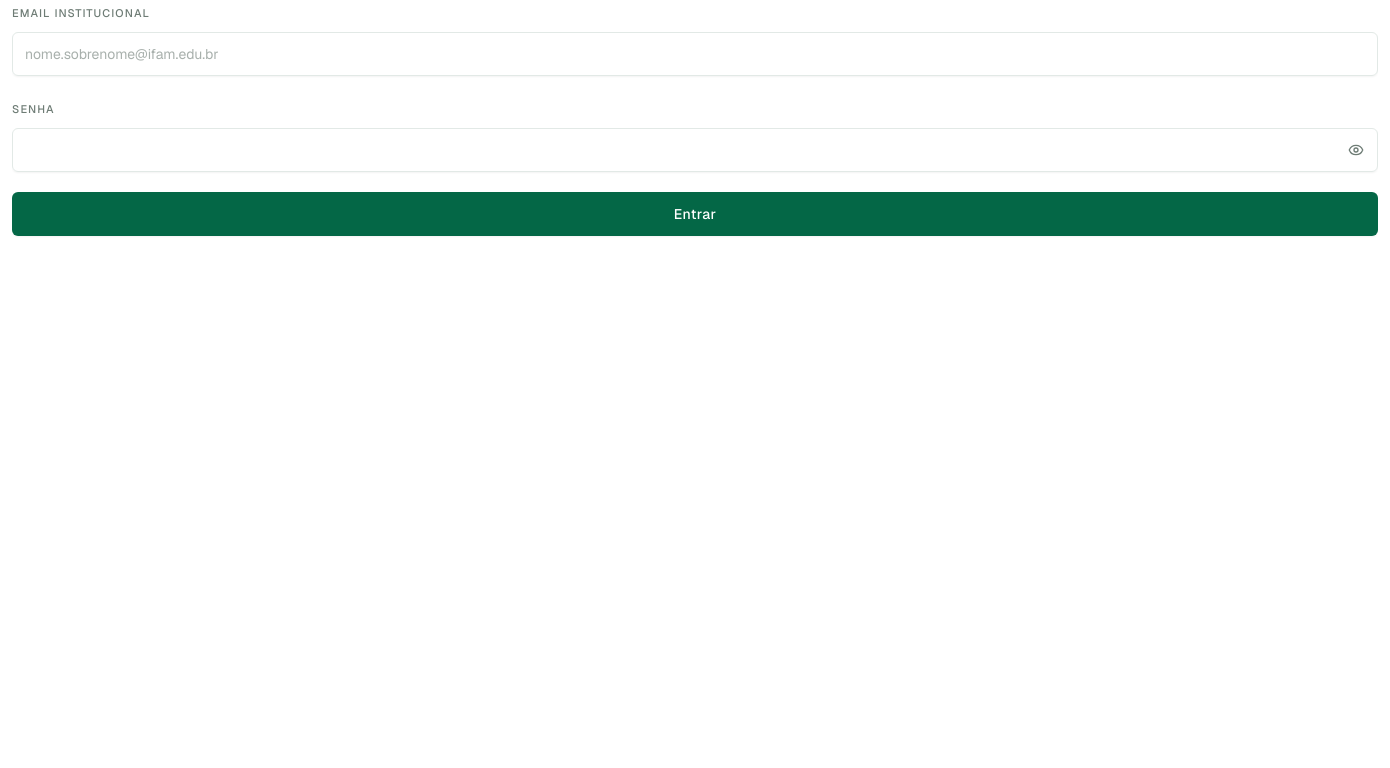
Test: <LoginForm /> › em erro ACCOUNT_REJECTED exibe a mensagem do backend
Type "joana@ifam.edu.br" into the field labelled "Email institucional" at point(695, 54), box [12,32,1378,76]
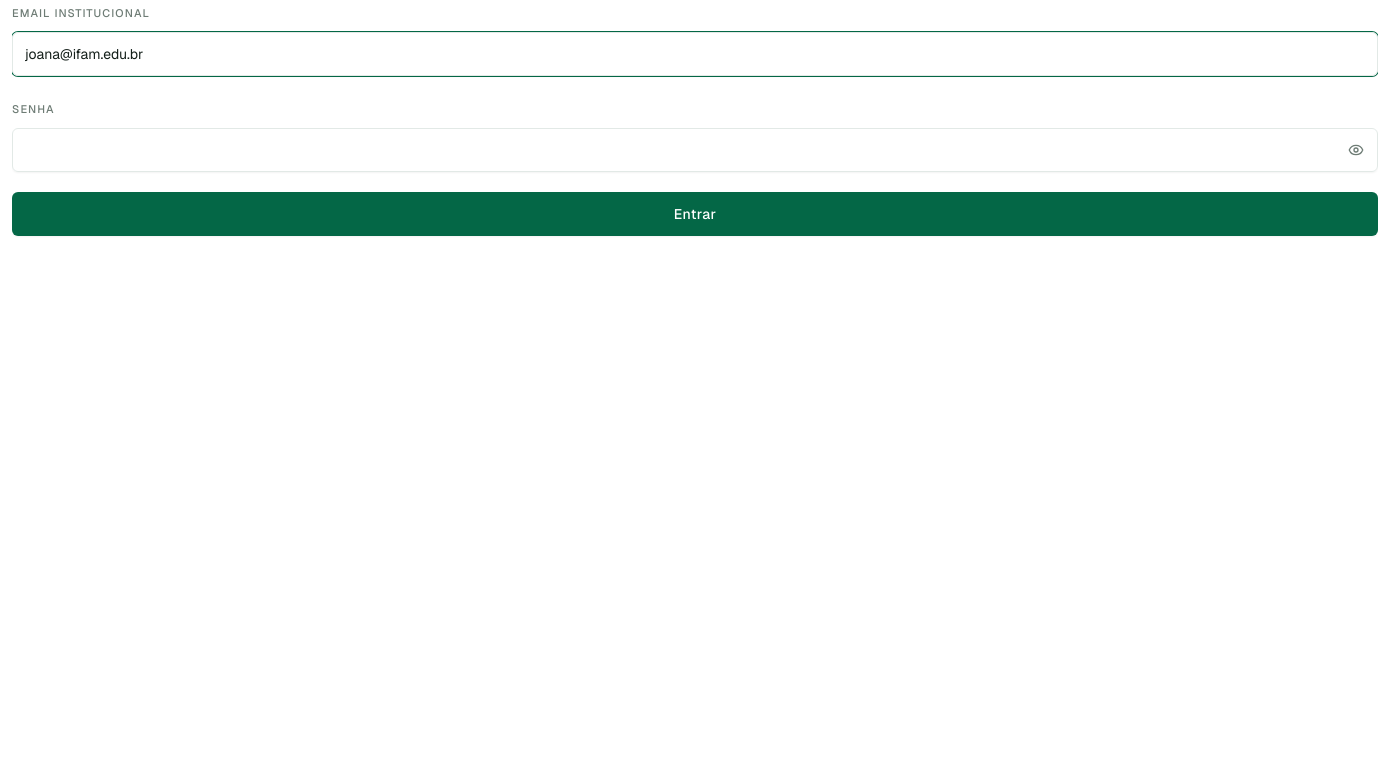
Type "senha123" into the password field labelled "Senha" at point(695, 150), box [12,128,1378,172]
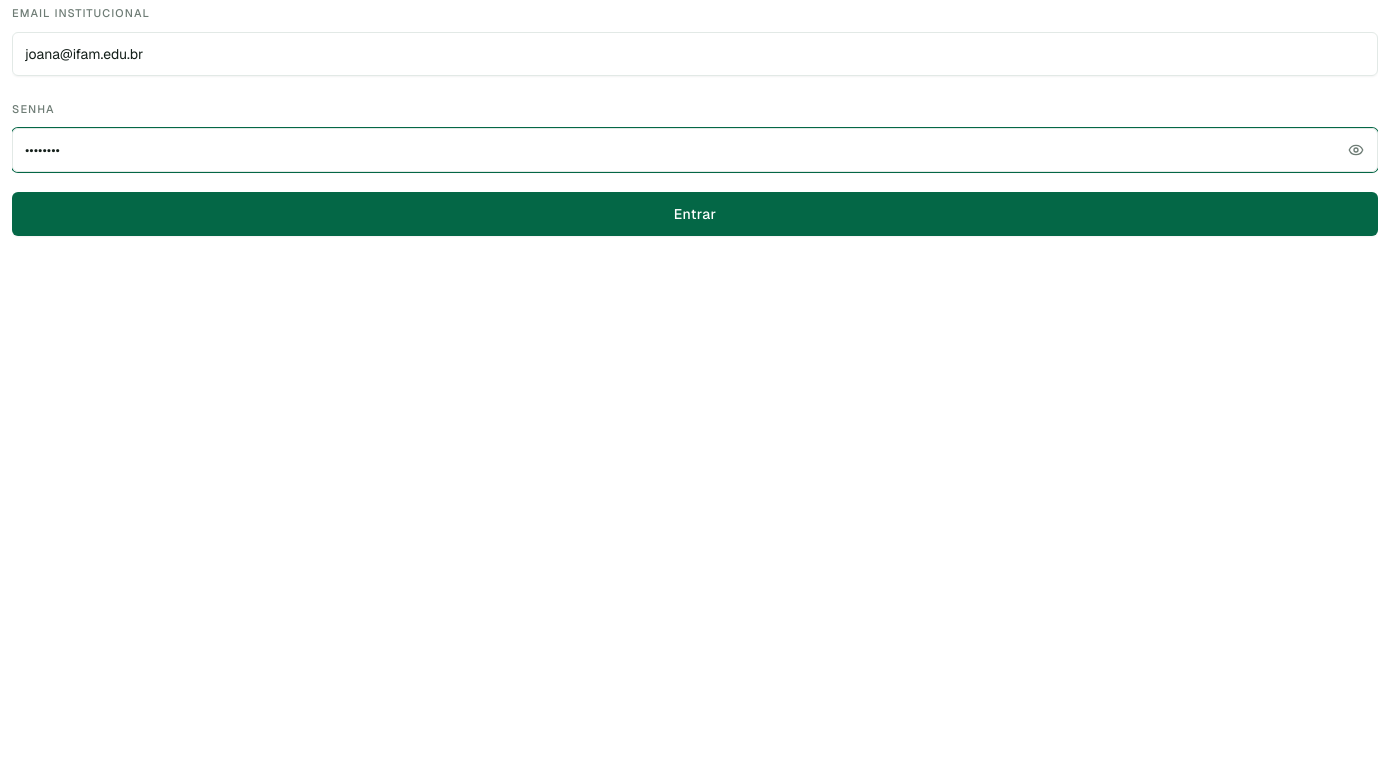
Click the button "Entrar" at point(695, 214), box [12,192,1378,236]
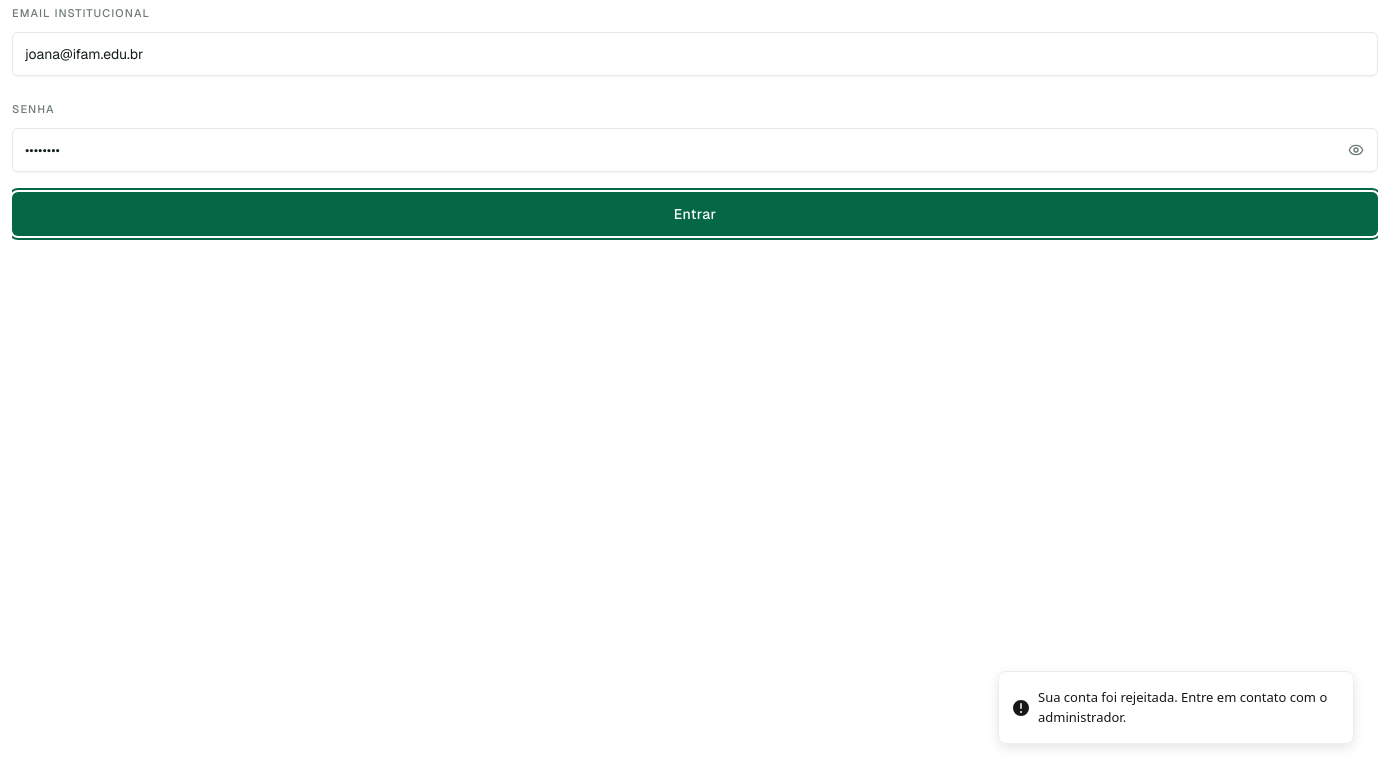
Expected: the text "conta foi rejeitada" is shown, [1038,688,1327,726]
